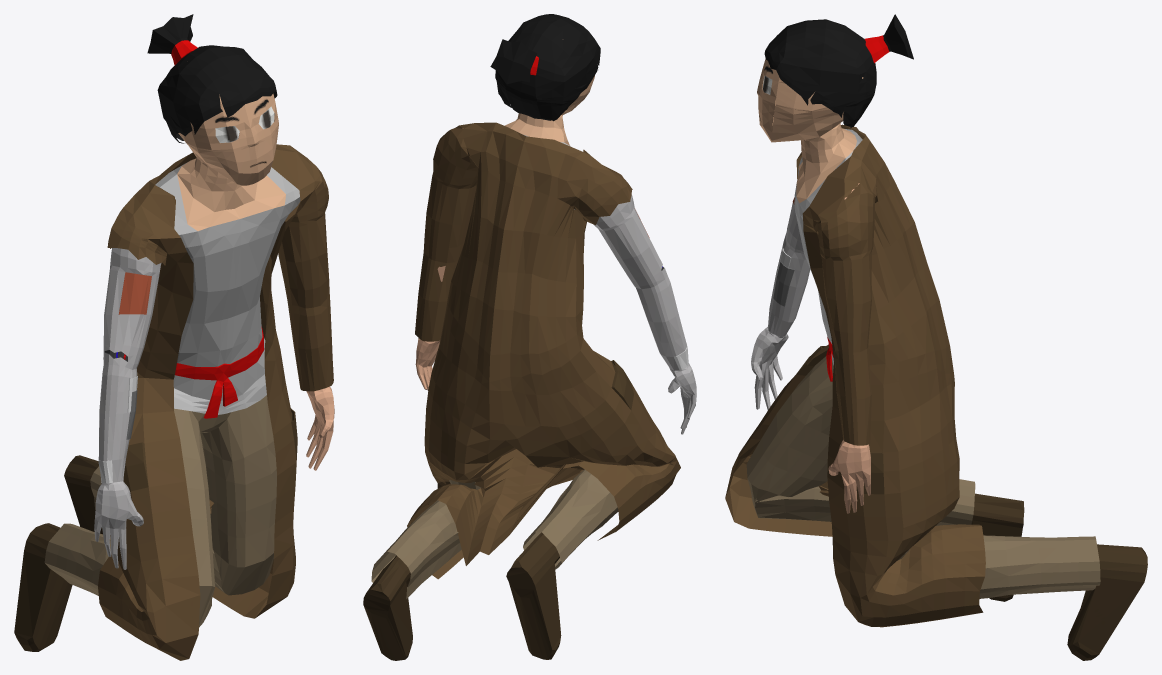
Rendered from One_Die_000015.obj.
The picture shows the model from 3 angles, left to right: view 1: azimuth 30°, elevation 25°; view 2: azimuth 150°, elevation 25°; view 3: azimuth 270°, elevation 25°; orthographic projection. The views are drawn at different scales.
Parts seen in each view (by area): view 1: Hair_Cube.004; view 2: Hair_Cube.004; view 3: Hair_Cube.004.
Part boxes in pixels (x1,y1,x2,y2): Hair_Cube.004: (14, 14, 334, 660); Hair_Cube.004: (363, 14, 696, 660); Hair_Cube.004: (725, 14, 1147, 660).
Size of the model in its own units: 1.36 by 3.03 by 1.86.
